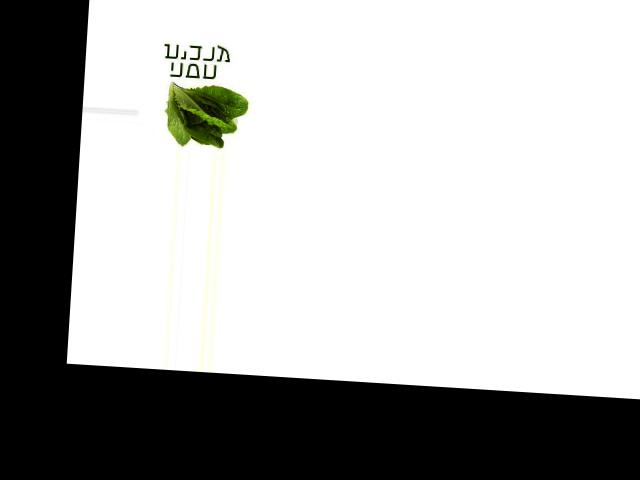lettuce: (158, 74, 250, 149)
